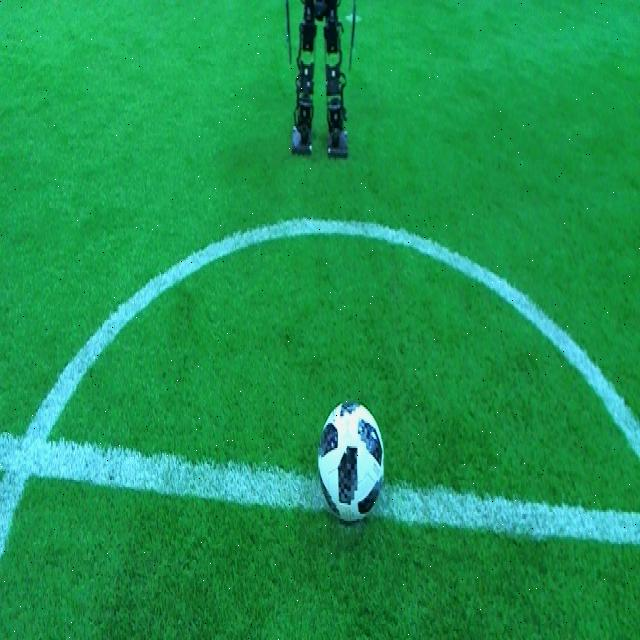ball: (315, 396, 387, 526)
